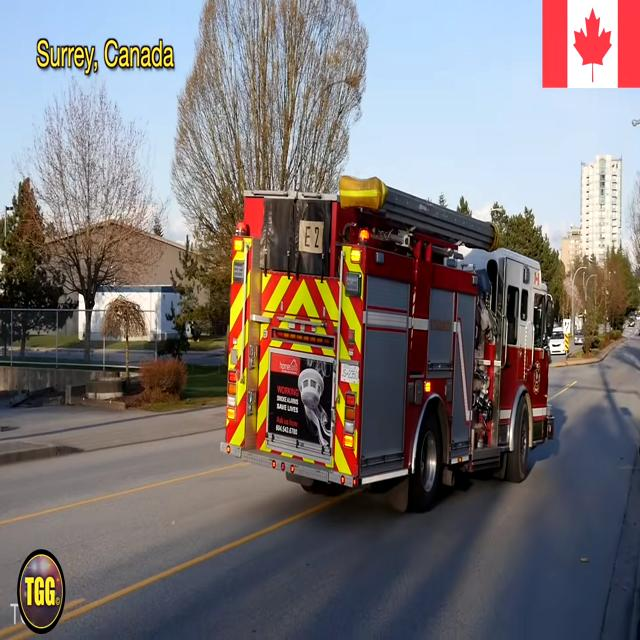emergency-vehicles: (214, 163, 566, 514)
